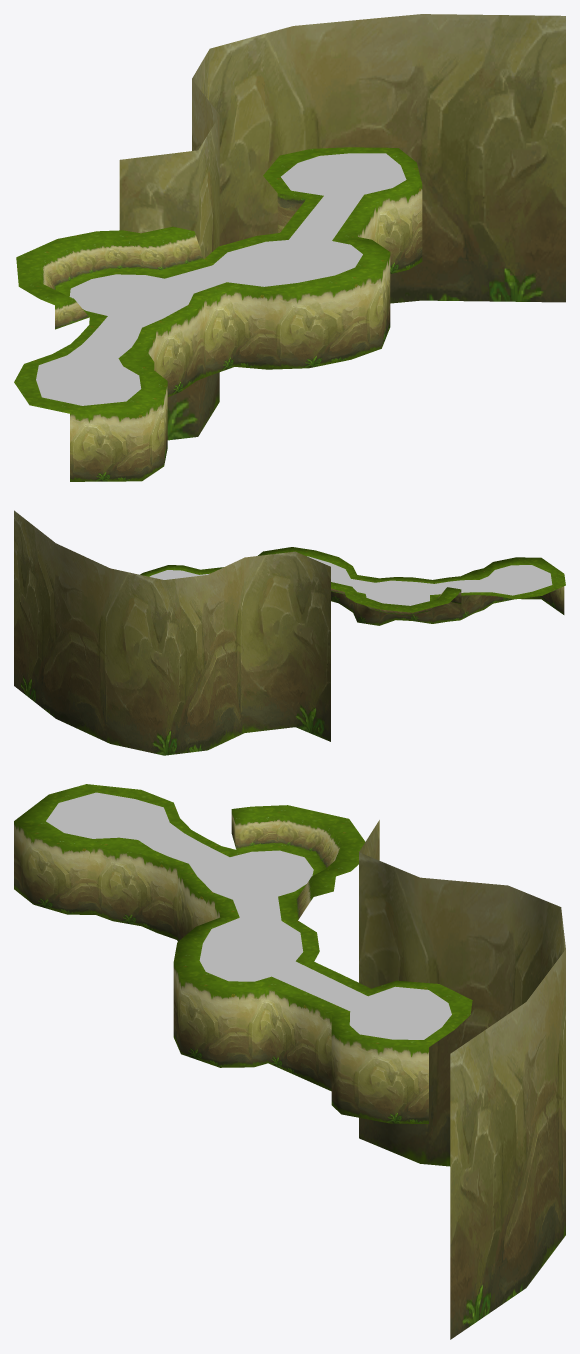
File: loyalismwood_ground03.FBX
3 views of the same model, one above another, from view 1: azimuth 30°, elevation 25°; view 2: azimuth 150°, elevation 25°; view 3: azimuth 270°, elevation 25° (orthographic). The views are drawn at different scales.
Parts seen in each view (by area): view 1: loyalismwood_ground01_e, loyalismwood_ground01_f; view 2: loyalismwood_ground01_e, loyalismwood_ground01_f; view 3: loyalismwood_ground01_e, loyalismwood_ground01_f.
Part boxes in pixels (x1,y1,x2,y2): loyalismwood_ground01_e: [14, 14, 565, 481]; loyalismwood_ground01_f: [36, 153, 406, 405]; loyalismwood_ground01_e: [14, 510, 565, 755]; loyalismwood_ground01_f: [149, 556, 552, 605]; loyalismwood_ground01_e: [14, 784, 565, 1339]; loyalismwood_ground01_f: [46, 792, 451, 1039].
Bounding box in the file's own units: 15980 × 10643 × 6089.
